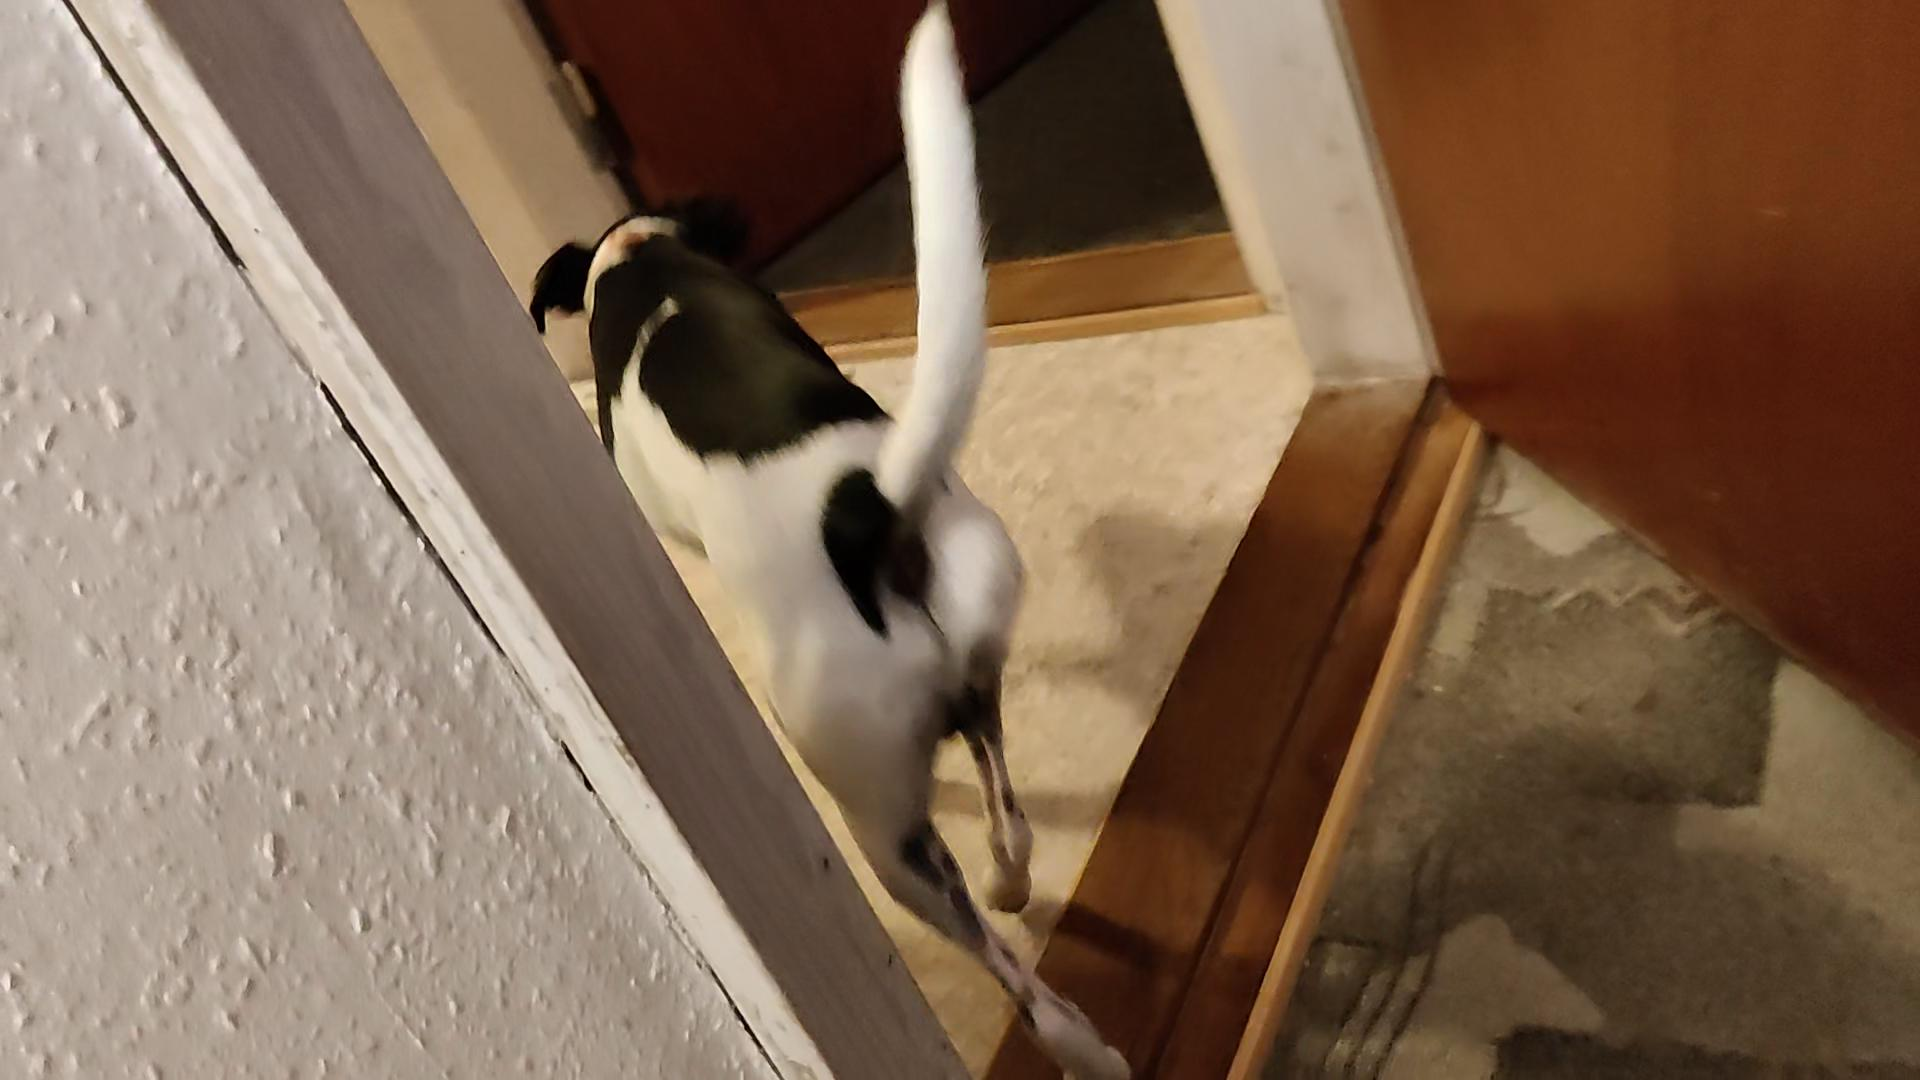Dog: (514, 0, 1156, 1079)
